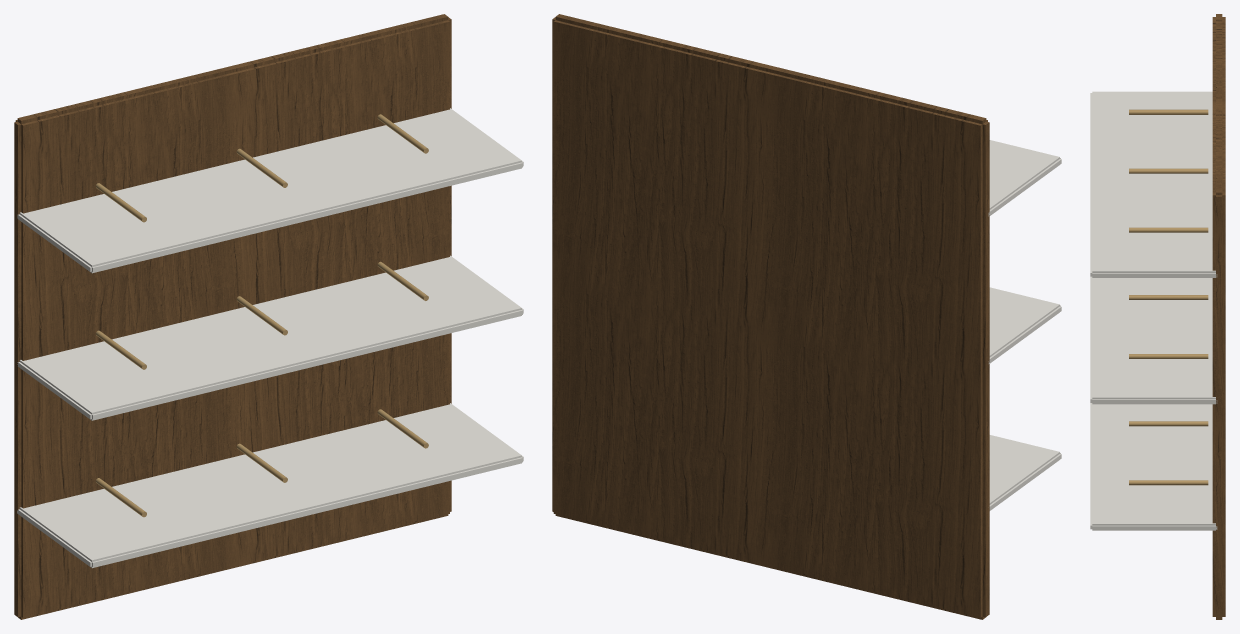
The model's file is fixture_v23_bag_wall.glb.
The picture shows the model from 3 angles, left to right: view 1: azimuth 30°, elevation 25°; view 2: azimuth 150°, elevation 25°; view 3: azimuth 270°, elevation 25°; orthographic projection. The views are drawn at different scales.
Parts seen in each view (by area): view 1: fixture_v23_bag_wall_CC0_Oak_veneer, fixture_v23_bag_wall_Warm_white_coating, fixture_v23_bag_wall_V23_satin_brass; view 2: fixture_v23_bag_wall_CC0_Oak_veneer, fixture_v23_bag_wall_Warm_white_coating; view 3: fixture_v23_bag_wall_Warm_white_coating, fixture_v23_bag_wall_CC0_Oak_veneer, fixture_v23_bag_wall_V23_satin_brass.
Boxes of the visible parts, x1,y1,x2,y2 form: fixture_v23_bag_wall_CC0_Oak_veneer: (14, 14, 451, 619); fixture_v23_bag_wall_Warm_white_coating: (17, 108, 523, 568); fixture_v23_bag_wall_V23_satin_brass: (95, 114, 428, 517); fixture_v23_bag_wall_CC0_Oak_veneer: (552, 14, 989, 619); fixture_v23_bag_wall_Warm_white_coating: (988, 140, 1061, 510); fixture_v23_bag_wall_Warm_white_coating: (1090, 91, 1217, 530); fixture_v23_bag_wall_CC0_Oak_veneer: (1212, 14, 1225, 619); fixture_v23_bag_wall_V23_satin_brass: (1129, 109, 1208, 485).
Bounding box in the file's own units: 2 × 2.2 × 0.63.
3 materials, 1 textured.
